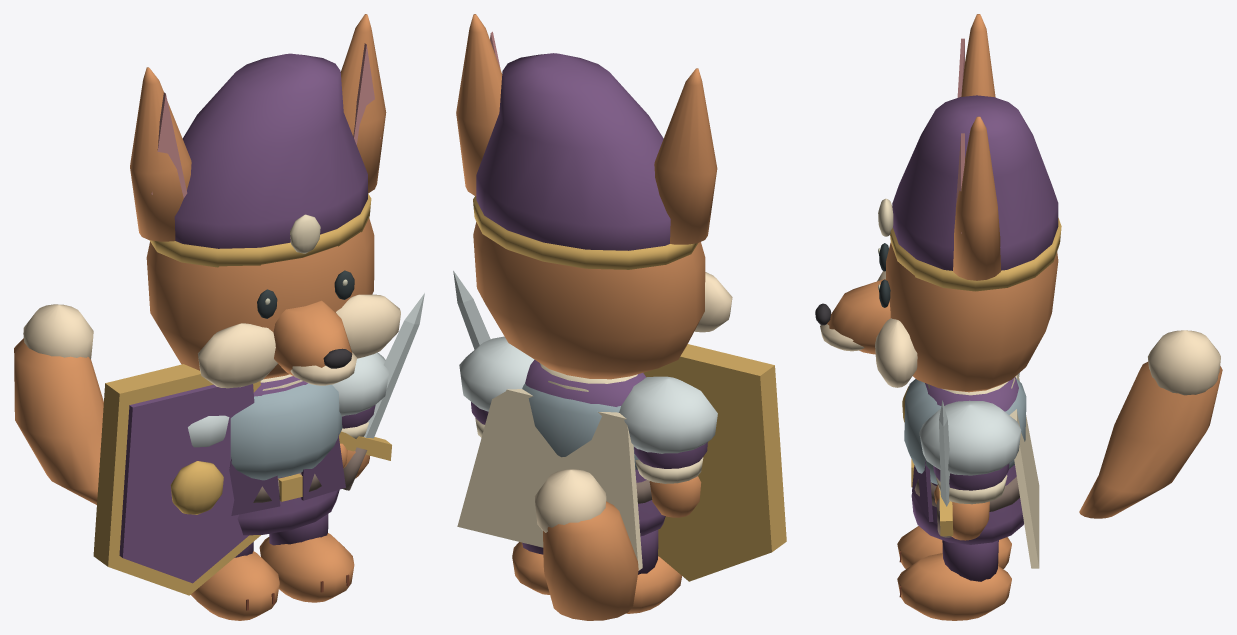
The model's file is guard.glb.
3 views of the same model, side by side, from view 1: azimuth 30°, elevation 25°; view 2: azimuth 150°, elevation 25°; view 3: azimuth 270°, elevation 25° (orthographic). The views are drawn at different scales.
Parts seen in each view (by area): view 1: Folded Persian tiara, Regional shield face, Animal cheek head, Plush sweeping tail, Shield gold rim, Rounded breastplate, Tall animal ear, Soft animal paw.001, Tall animal ear.001, Light cheek fluff, Soft animal paw, Long pointed muzzle (+17 smaller); view 2: Folded Persian tiara, Animal cheek head, Shield gold rim, Persian shoulder drape, Plush sweeping tail, Tall animal ear, Big shoulder armour, Tall animal ear.001, Tiara gold band, Big shoulder armour.001, Rounded breastplate, Tail pale tip (+10 smaller); view 3: Folded Persian tiara, Animal cheek head, Plush sweeping tail, Tall animal ear.001, Big shoulder armour.001, Soft animal paw.001, Tail pale tip, Short folded tunic, Tiara gold band, Long pointed muzzle, Rounded breastplate, Persian shoulder drape (+11 smaller).
Part boxes in pixels (x1,y1,x2,y2): Folded Persian tiara: [174, 53, 367, 248]; Regional shield face: [119, 384, 254, 583]; Animal cheek head: [146, 218, 374, 379]; Plush sweeping tail: [14, 338, 103, 504]; Shield gold rim: [93, 364, 260, 595]; Rounded breastplate: [230, 383, 342, 480]; Tall animal ear: [130, 67, 191, 241]; Soft animal paw.001: [259, 533, 354, 602]; Tall animal ear.001: [340, 14, 386, 193]; Light cheek fluff: [198, 323, 277, 388]; Soft animal paw: [191, 551, 279, 620]; Long pointed muzzle: [273, 300, 352, 376]; Folded Persian tiara: [476, 53, 670, 250]; Animal cheek head: [473, 222, 705, 379]; Shield gold rim: [643, 344, 786, 581]; Persian shoulder drape: [457, 389, 642, 570]; Plush sweeping tail: [543, 501, 638, 620]; Tall animal ear: [654, 68, 717, 244]; Big shoulder armour: [619, 376, 717, 453]; Tall animal ear.001: [456, 14, 502, 196]; Tiara gold band: [473, 196, 698, 269]; Big shoulder armour.001: [459, 336, 534, 411]; Rounded breastplate: [522, 383, 638, 469]; Tail pale tip: [534, 469, 606, 532]; Folded Persian tiara: [892, 95, 1058, 270]; Animal cheek head: [886, 242, 1058, 392]; Plush sweeping tail: [1079, 361, 1222, 518]; Tall animal ear.001: [953, 116, 1001, 280]; Big shoulder armour.001: [919, 400, 1021, 475]; Soft animal paw.001: [897, 553, 1011, 620]; Tail pale tip: [1148, 330, 1220, 395]; Short folded tunic: [911, 377, 1023, 544]; Tiara gold band: [890, 218, 1061, 291]; Long pointed muzzle: [827, 279, 890, 354]; Rounded breastplate: [904, 378, 1026, 484]; Persian shoulder drape: [1009, 374, 1039, 568].
Bounding box in the file's own units: 1.12 × 1.84 × 1.28.
